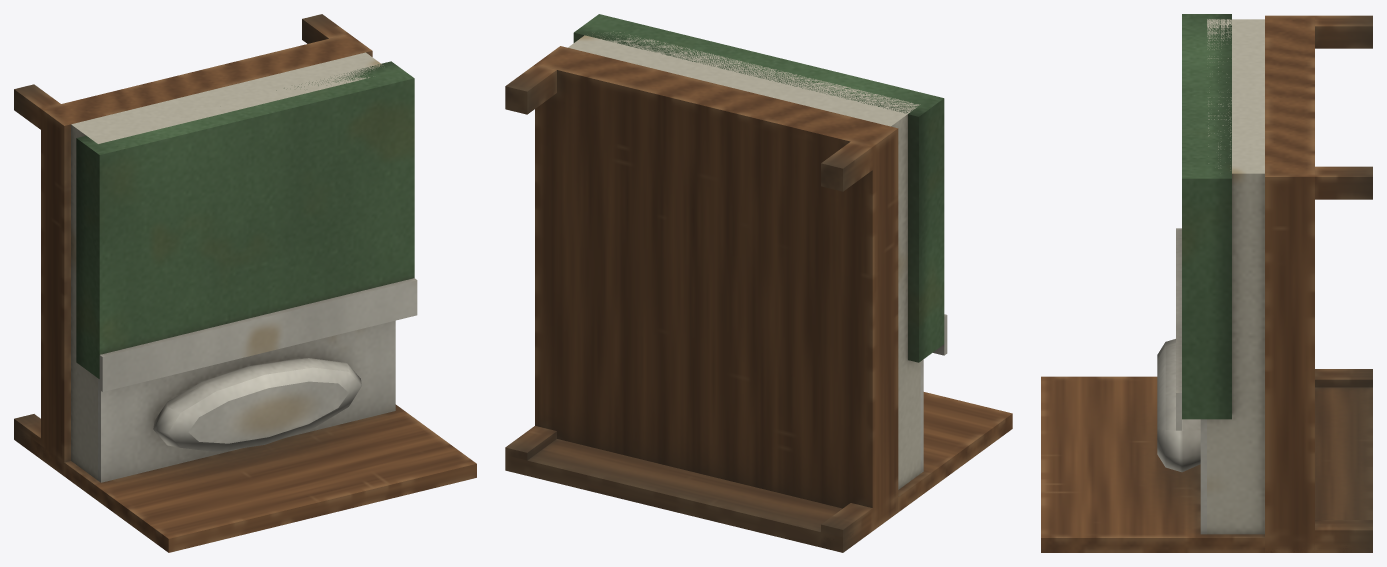
File: bed_green_head.obj
3 renders of one model, left to right at view 1: azimuth 30°, elevation 25°; view 2: azimuth 150°, elevation 25°; view 3: azimuth 270°, elevation 25°, orthographic. The views are drawn at different scales.
Bounding box in the file's own units: 0.94 × 1 × 0.8.
1 material, 1 textured.
